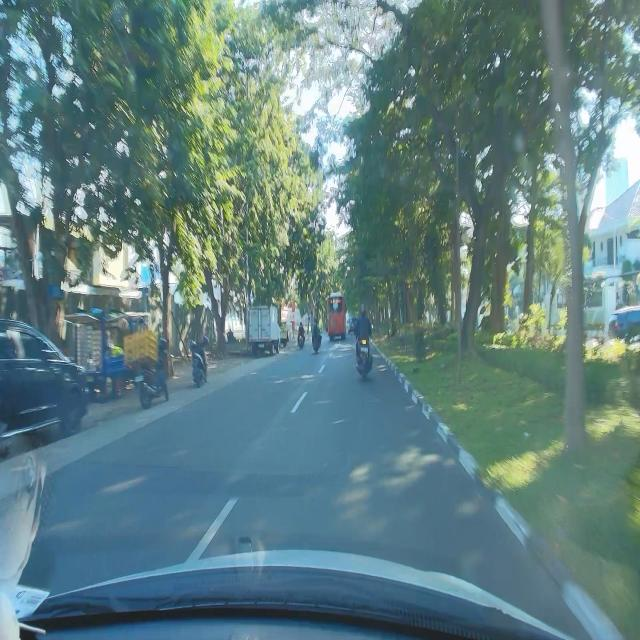truck: (248, 301, 280, 358)
